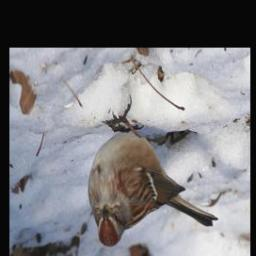Sparrow: (87, 92, 220, 253)
